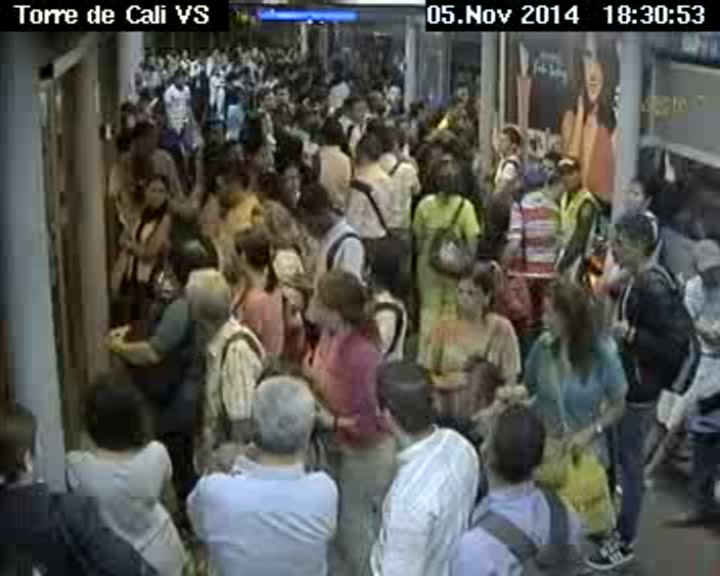person: (237, 372, 323, 473), (470, 403, 552, 483), (372, 355, 439, 448), (78, 367, 149, 453), (305, 265, 375, 336), (1, 395, 50, 493), (532, 279, 592, 348), (181, 263, 239, 334), (603, 215, 664, 278), (224, 219, 277, 278), (449, 266, 497, 321), (616, 167, 662, 219), (292, 185, 336, 231), (206, 161, 249, 206), (687, 236, 720, 288), (252, 168, 288, 214), (351, 131, 385, 172), (551, 155, 587, 193), (430, 149, 460, 194), (368, 121, 404, 157), (239, 105, 268, 145), (143, 172, 172, 210), (275, 129, 303, 166), (315, 120, 345, 152), (495, 122, 521, 158), (521, 165, 551, 196), (339, 91, 368, 122), (129, 120, 155, 154), (218, 139, 249, 161), (201, 120, 227, 144), (253, 86, 277, 109), (452, 82, 473, 104), (387, 83, 404, 107), (173, 70, 187, 95), (276, 84, 290, 101)
